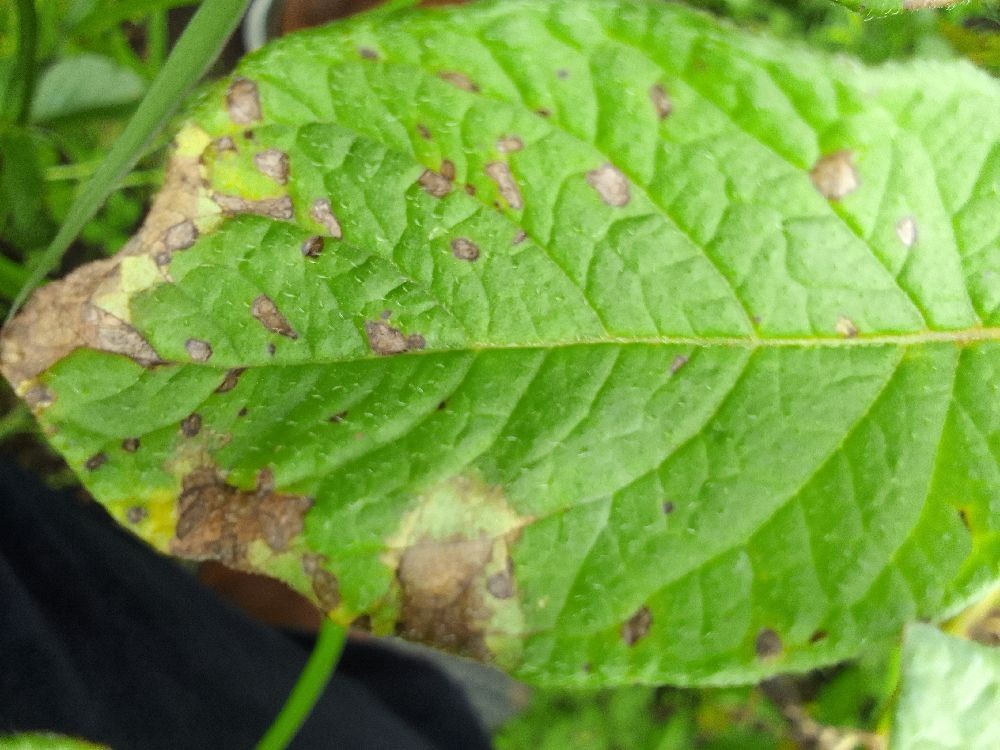late_blight: (112, 398, 539, 726), (705, 641, 902, 750), (176, 0, 276, 154), (248, 0, 405, 59)
